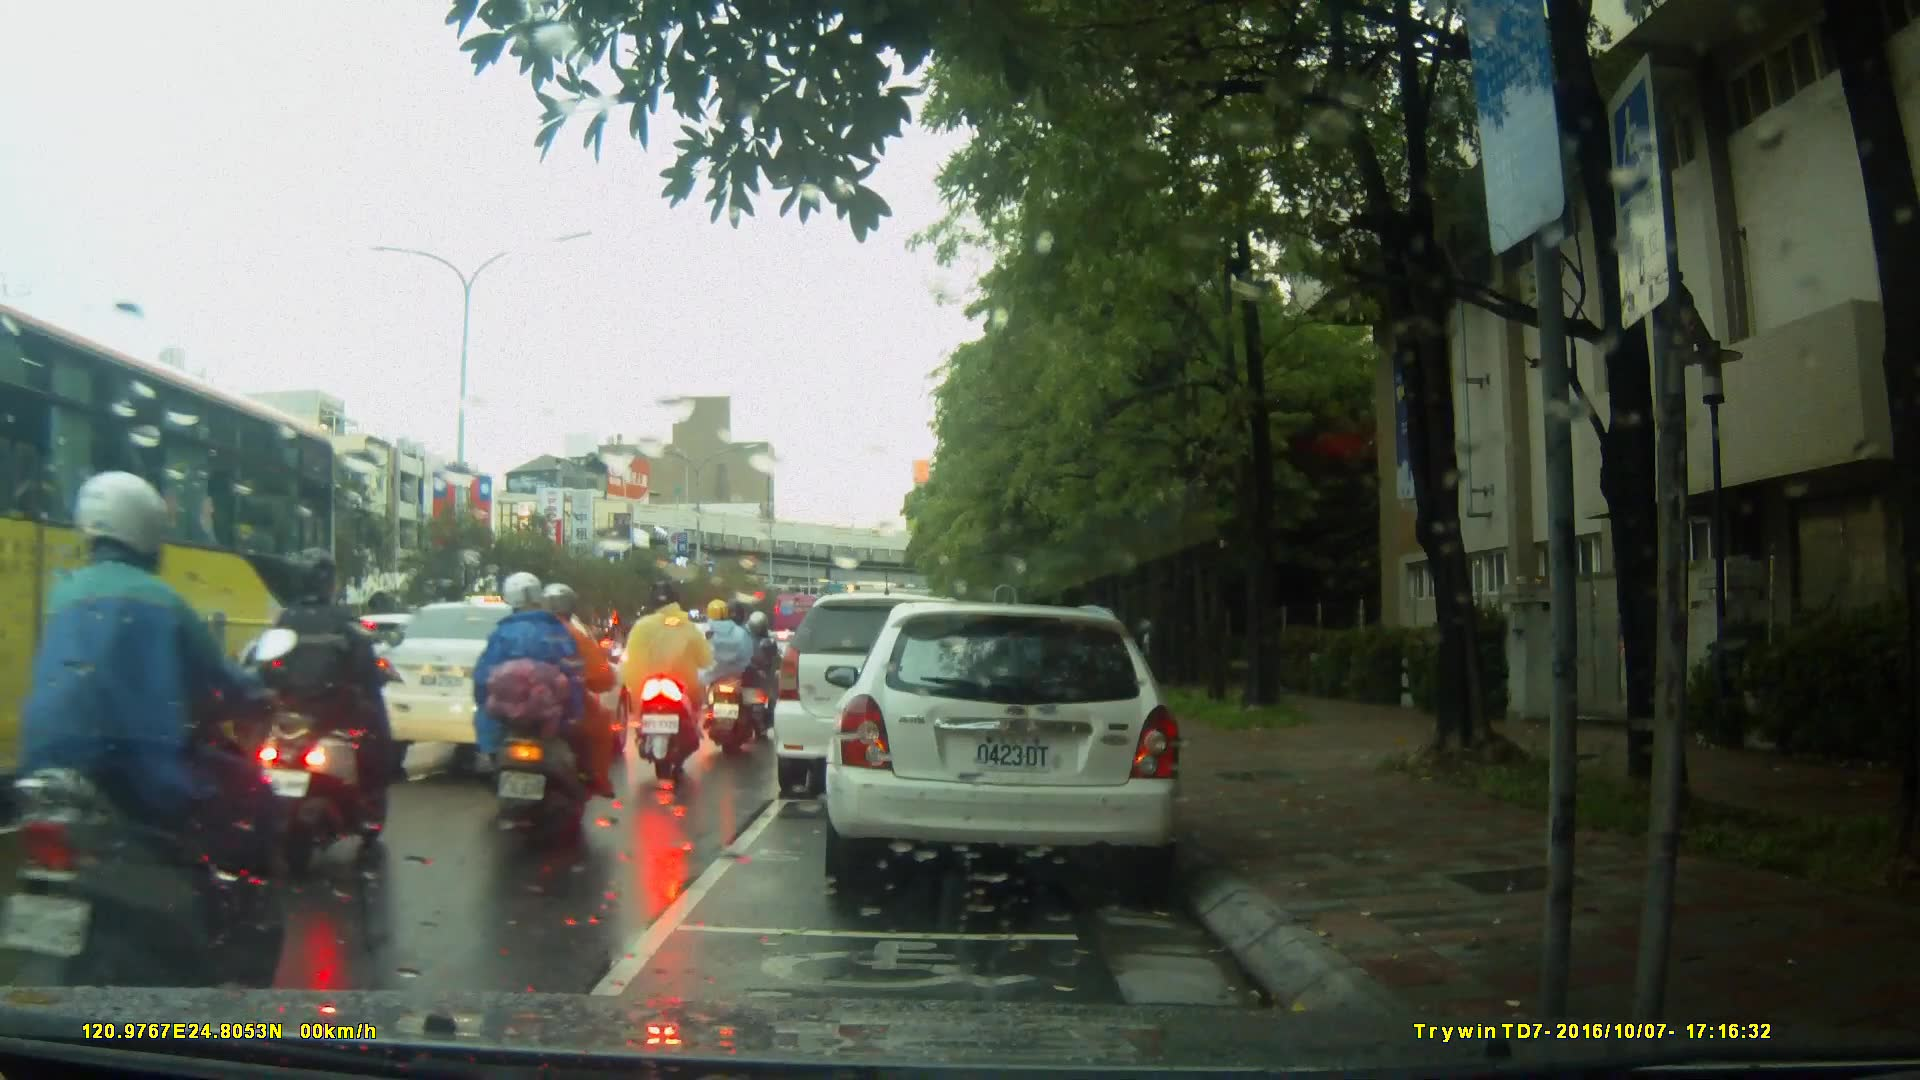rider: (1, 477, 298, 1006), (231, 545, 393, 858), (472, 574, 622, 842), (615, 571, 713, 780), (700, 597, 762, 751), (732, 612, 783, 734)
vehicle: (1, 299, 348, 828), (835, 594, 1194, 898), (776, 590, 1026, 784), (369, 599, 632, 777)
